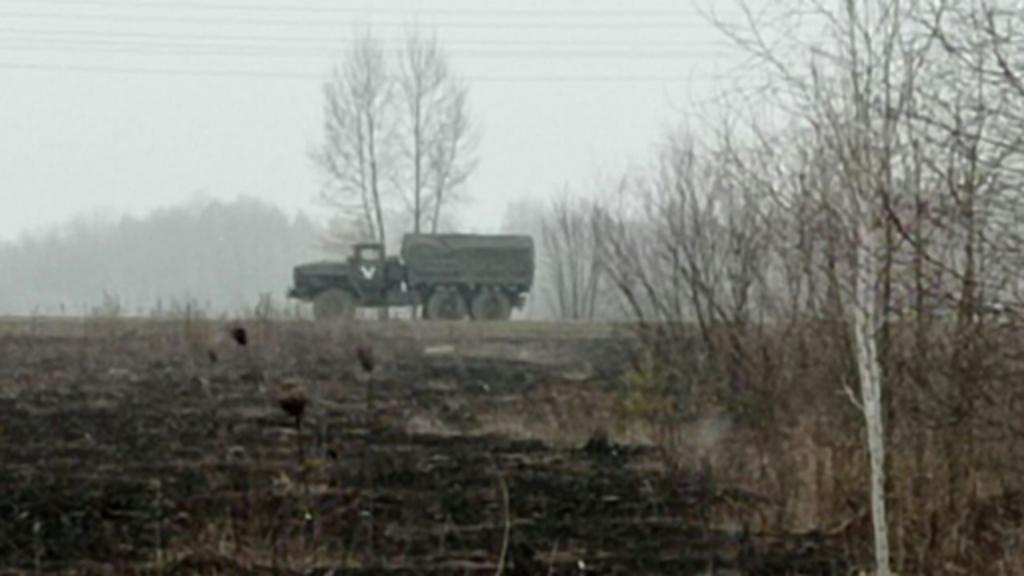TRUCK: (274, 220, 542, 330)
